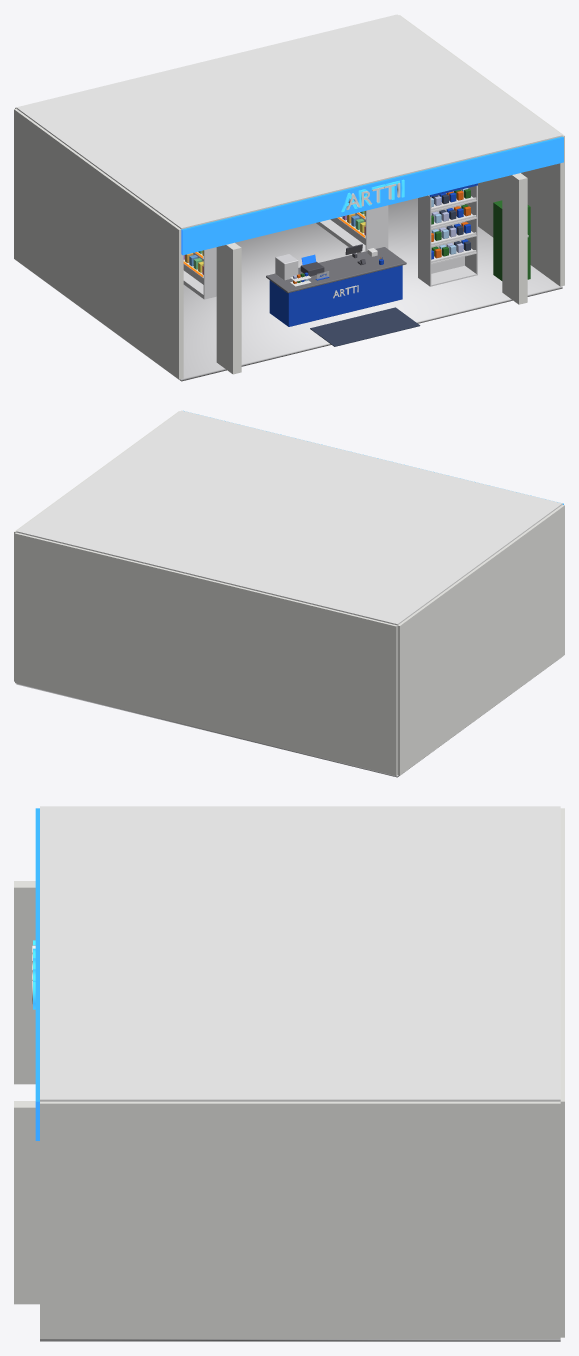
Rendered from ARTTI_Store.fbx.
3 views of the same model, one above another, from view 1: azimuth 30°, elevation 25°; view 2: azimuth 150°, elevation 25°; view 3: azimuth 270°, elevation 25° (orthographic). The views are drawn at different scales.
Visible parts, largest first — view 1: Ceiling, Wall_Left, Floor, Front_Sign_Band, Wall_Right, Counter_Base, Front_Pillar_L, Front_Pillar_R, Floor_Mat, Counter_Top, Shelf_Side_L, ATM_Body (+8 smaller); view 2: Ceiling, Wall_Back, Wall_Left, Floor; view 3: Ceiling, Wall_Right, Front_Pillar_R, Front_Pillar_L, Wall_Back, Front_Sign_Band, Floor.
Boxes of the visible parts, box(x1,y1,x2,y2) form: Ceiling: box(16, 14, 562, 229); Wall_Left: box(14, 108, 183, 379); Floor: box(17, 198, 562, 381); Front_Sign_Band: box(181, 136, 563, 255); Wall_Right: box(399, 15, 564, 286); Counter_Base: box(269, 265, 402, 326); Front_Pillar_L: box(216, 242, 241, 374); Front_Pillar_R: box(502, 173, 527, 304); Floor_Mat: box(310, 307, 420, 346); Counter_Top: box(266, 247, 406, 293); Shelf_Side_L: box(418, 195, 431, 285); ATM_Body: box(493, 200, 530, 280); Ceiling: box(16, 410, 562, 625); Wall_Back: box(15, 532, 397, 775); Wall_Left: box(397, 504, 564, 775); Floor: box(16, 657, 561, 777); Ceiling: box(40, 806, 560, 1101); Wall_Right: box(40, 1101, 560, 1339); Front_Pillar_R: box(14, 1101, 39, 1304); Front_Pillar_L: box(14, 881, 35, 1084); Wall_Back: box(560, 808, 564, 1337); Front_Sign_Band: box(35, 808, 39, 1140); Floor: box(40, 1339, 560, 1341).
Bounding box in the file's own units: 810 × 308 × 635.
